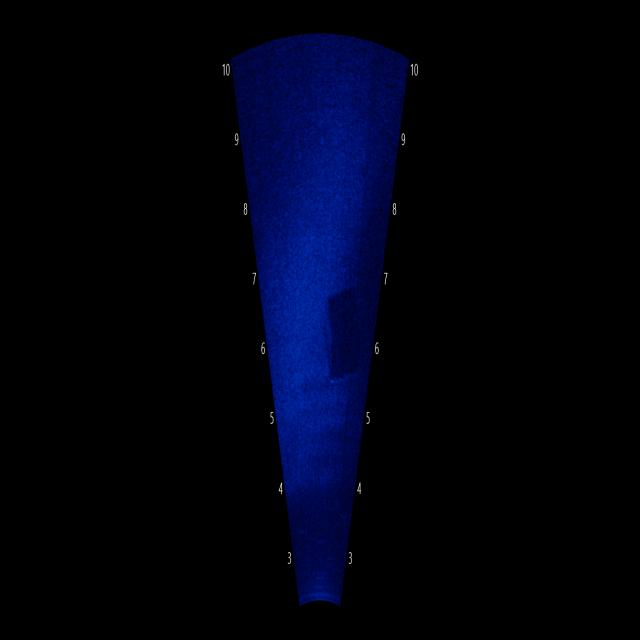square: (318, 260, 364, 401)
